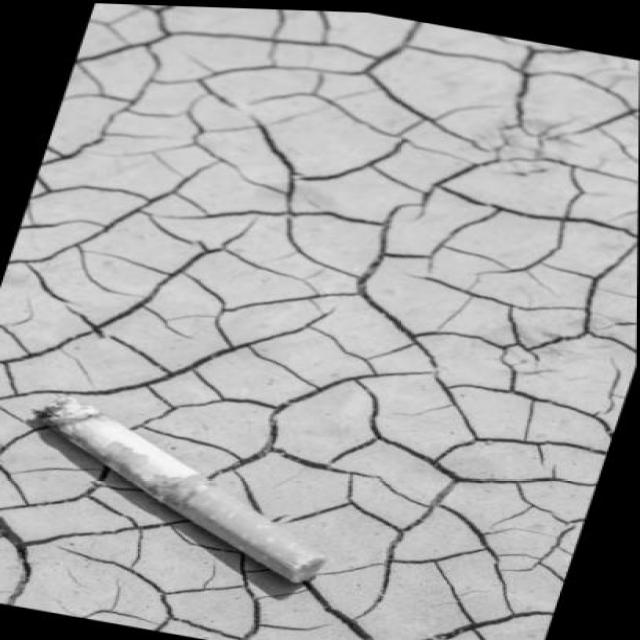cigarette: (0, 382, 378, 600)
